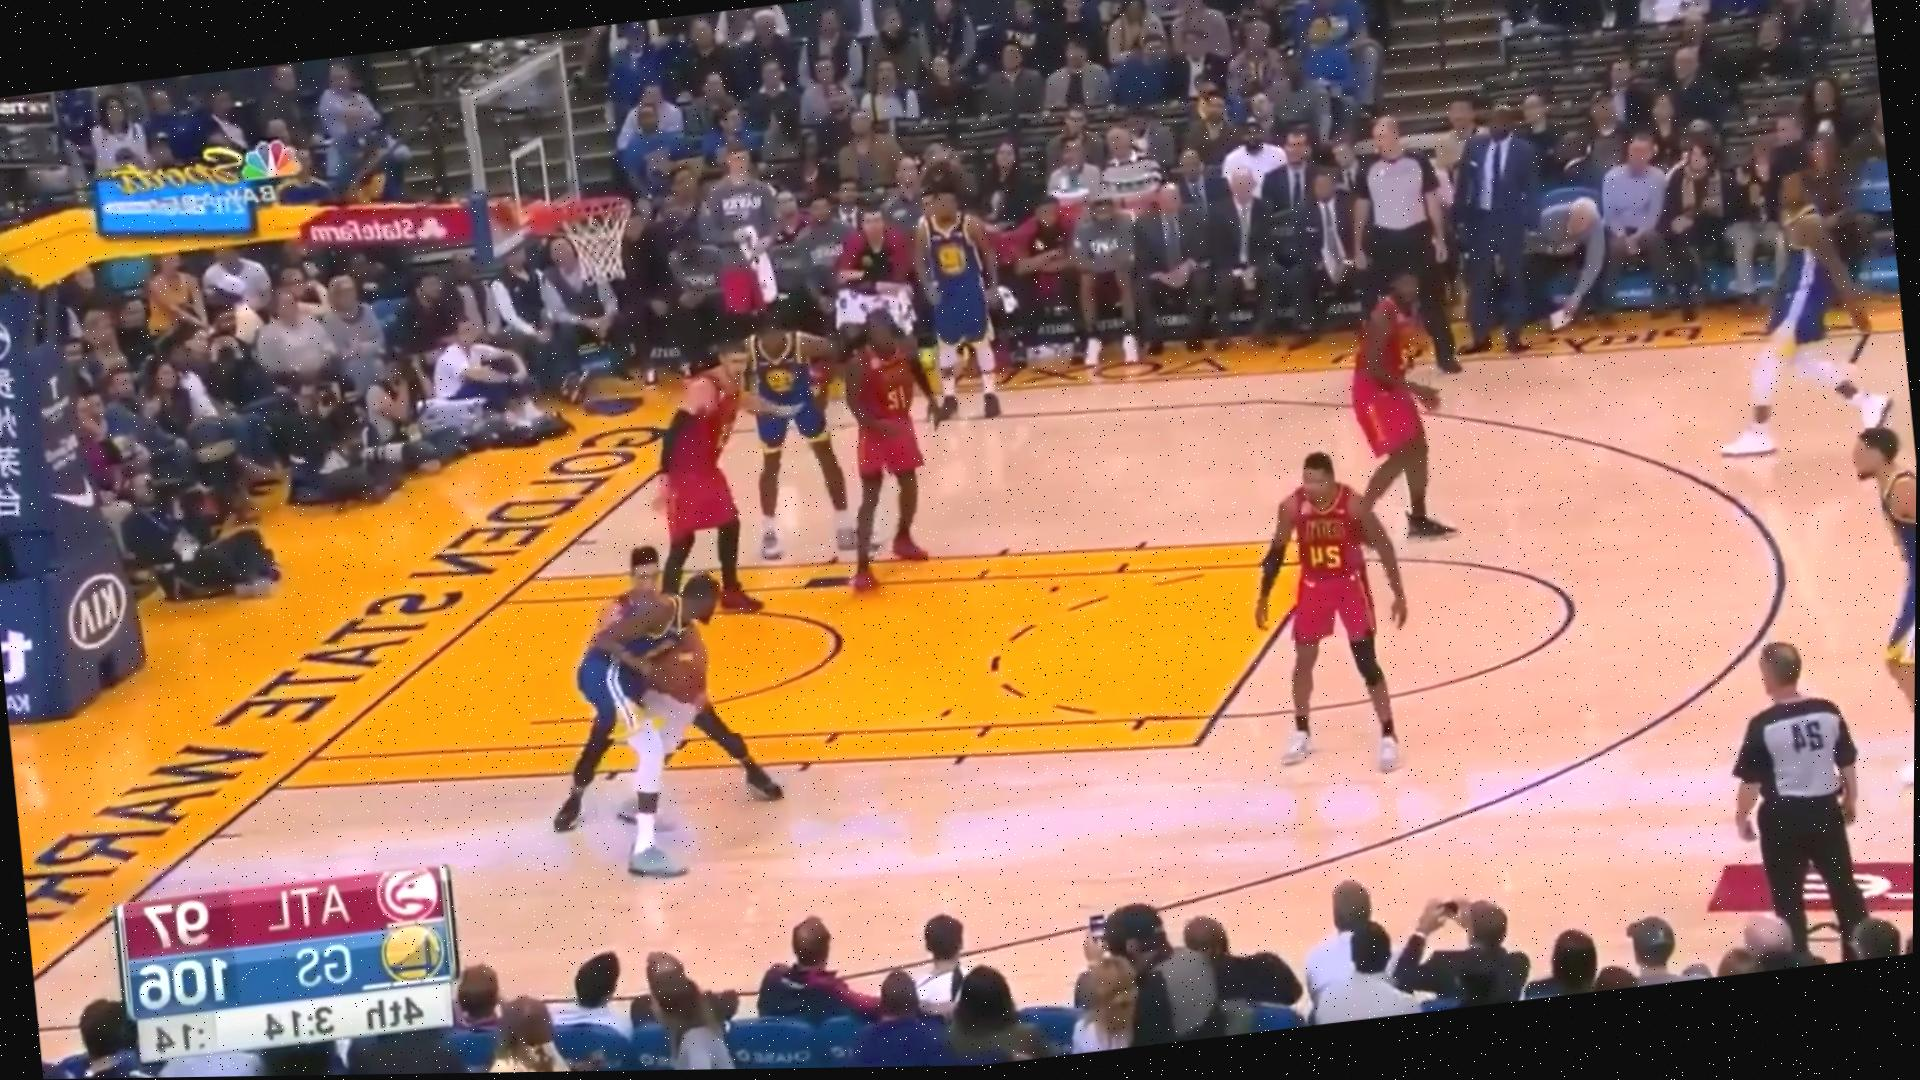foul: (521, 526, 786, 883)
